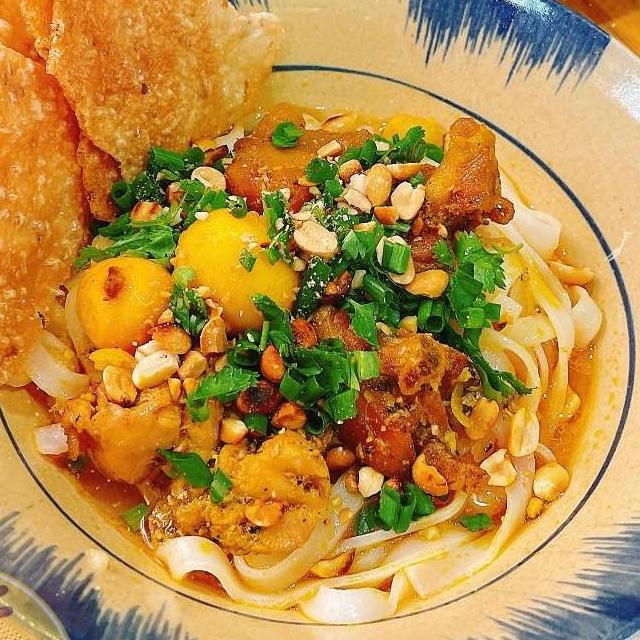banh da: (29, 0, 286, 196), (0, 0, 108, 399), (0, 0, 152, 237)
mi: (153, 433, 567, 628), (425, 165, 612, 517), (12, 270, 108, 465)
trung: (168, 204, 309, 339), (73, 250, 183, 365)
